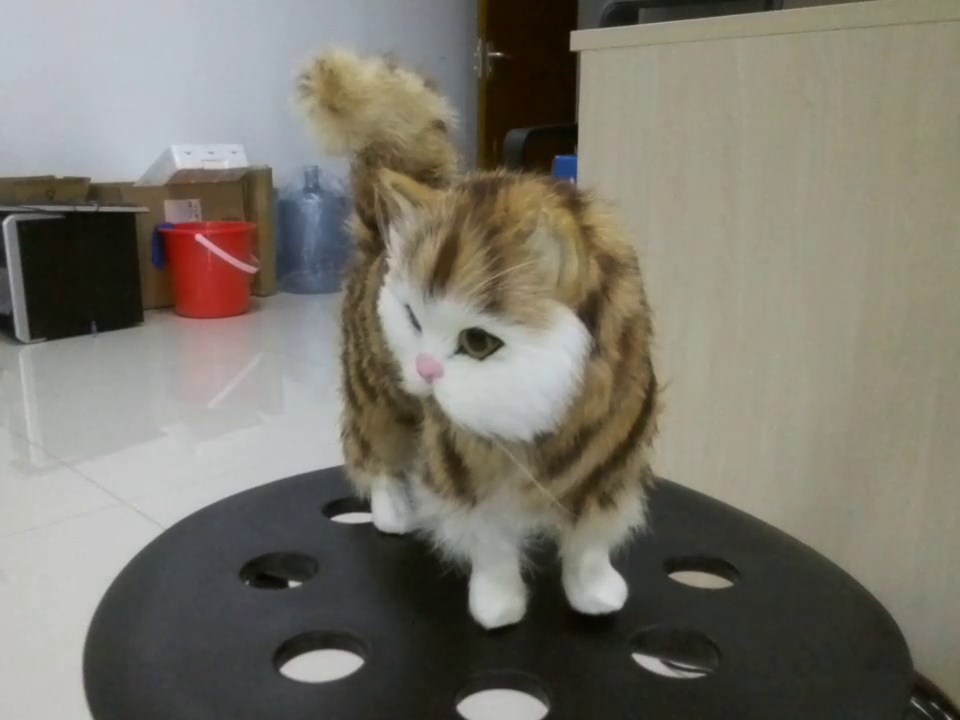cat: (296, 41, 666, 625)
